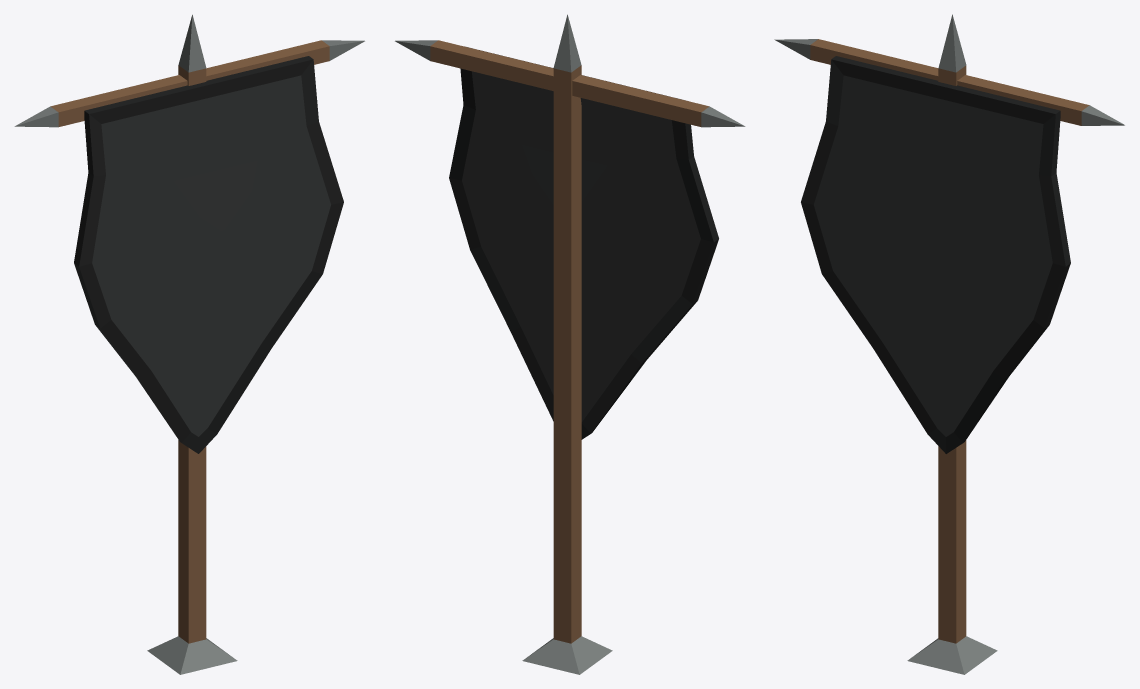
Rendered from Banner_3_Black.fbx.
3 views of the same model, side by side, from view 1: azimuth 30°, elevation 25°; view 2: azimuth 150°, elevation 25°; view 3: azimuth 330°, elevation 25° (orthographic).
Parts seen in each view (by area): view 1: Banner_3_Black_Part_3, Banner_3_Black_Part_4, Banner_3_Black_Part_1, Banner_3_Black_Part_2; view 2: Banner_3_Black_Part_3, Banner_3_Black_Part_1, Banner_3_Black_Part_4, Banner_3_Black_Part_2; view 3: Banner_3_Black_Part_3, Banner_3_Black_Part_4, Banner_3_Black_Part_1, Banner_3_Black_Part_2.
Part boxes in pixels (x1,y1,x2,y2): Banner_3_Black_Part_3: [92, 75, 330, 436]; Banner_3_Black_Part_4: [74, 56, 343, 453]; Banner_3_Black_Part_1: [50, 40, 329, 643]; Banner_3_Black_Part_2: [14, 14, 364, 674]; Banner_3_Black_Part_3: [462, 71, 700, 421]; Banner_3_Black_Part_1: [430, 40, 709, 643]; Banner_3_Black_Part_4: [449, 47, 718, 439]; Banner_3_Black_Part_2: [395, 14, 745, 674]; Banner_3_Black_Part_3: [814, 75, 1052, 436]; Banner_3_Black_Part_4: [801, 56, 1070, 453]; Banner_3_Black_Part_1: [810, 39, 1089, 643]; Banner_3_Black_Part_2: [774, 14, 1124, 674].
Bounding box in the file's own units: 172 × 300 × 30.33.
